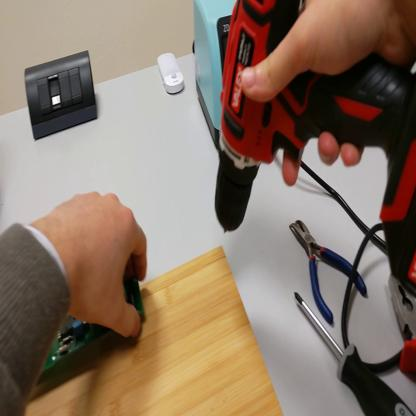electric screwdriver: (210, 2, 416, 297)
hand: (231, 2, 410, 177), (43, 191, 145, 341)
high voltage board: (35, 262, 150, 387)
pliers: (290, 215, 369, 324), (389, 274, 416, 384)
screwdriver-: (293, 293, 416, 416)
welder station: (192, 2, 237, 150)
working area: (21, 245, 285, 416)
